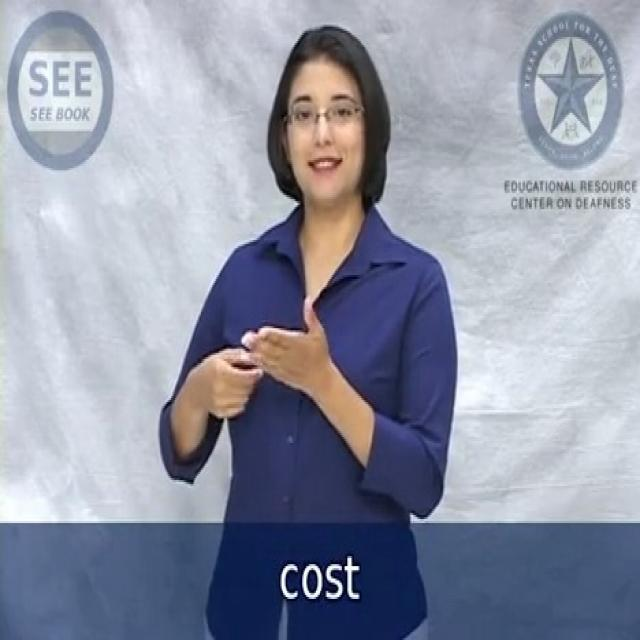cost: (198, 293, 330, 434)
